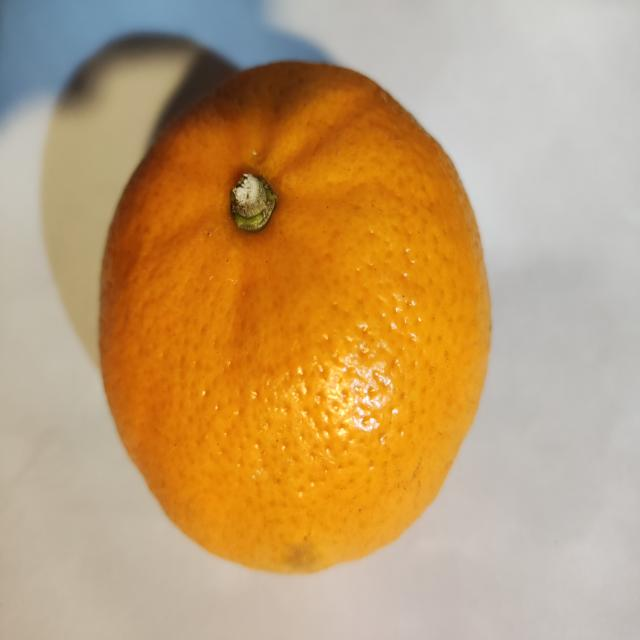orange: (101, 63, 490, 572)
